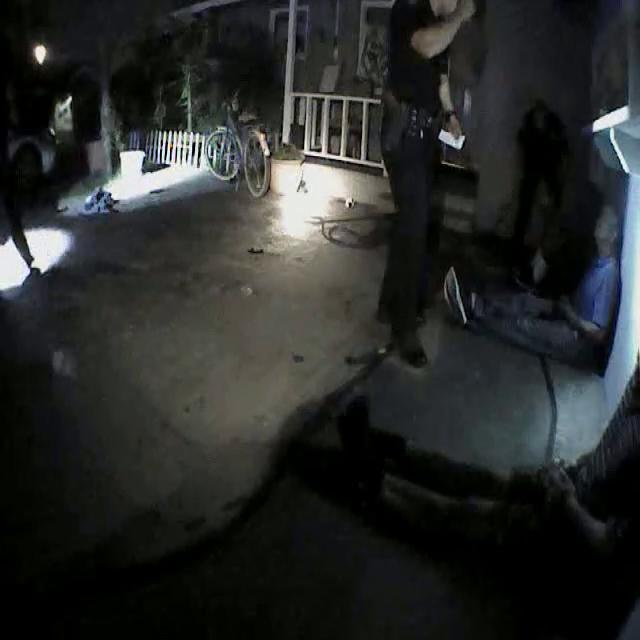gun: (374, 80, 417, 162)
